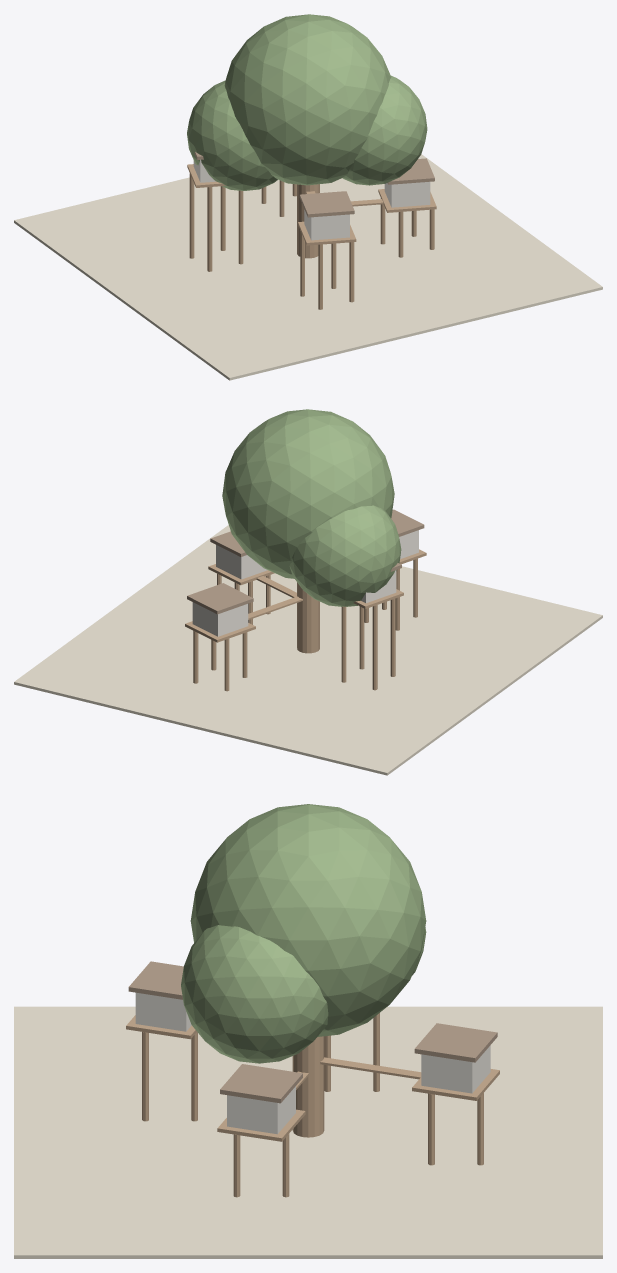
File: tree-house.glb
The picture shows the model from 3 angles, top to bottom: view 1: azimuth 30°, elevation 25°; view 2: azimuth 150°, elevation 25°; view 3: azimuth 270°, elevation 25°; orthographic projection. The views are drawn at different scales.
Parts seen in each view (by area): view 1: tree-house-0, tree-house-2, tree-house-4, tree-house-3, tree-house-19, tree-house-10, tree-house-18, tree-house-1, tree-house-11, tree-house-22; view 2: tree-house-0, tree-house-2, tree-house-4, tree-house-1, tree-house-34, tree-house-35, tree-house-10, tree-house-19, tree-house-21; view 3: tree-house-0, tree-house-2, tree-house-3, tree-house-1, tree-house-35, tree-house-11, tree-house-34, tree-house-10, tree-house-18, tree-house-19, tree-house-9, tree-house-33 (+3 smaller).
Part boxes in pixels (x1,y1,x2,y2): tree-house-0: (14,154,602,380); tree-house-2: (224,14,391,185); tree-house-4: (187,80,277,190); tree-house-3: (342,75,427,185); tree-house-19: (299,191,354,217); tree-house-10: (384,181,430,207); tree-house-18: (304,209,349,240); tree-house-1: (297,184,319,258); tree-house-11: (387,158,434,184); tree-house-22: (207,187,212,271); tree-house-0: (14,525,602,775); tree-house-2: (222,409,394,578); tree-house-4: (289,505,401,606); tree-house-1: (297,582,319,653); tree-house-34: (192,602,248,636); tree-house-35: (187,583,253,614); tree-house-10: (216,545,267,579); tree-house-19: (391,509,424,536); tree-house-21: (372,605,377,690); tree-house-0: (14,1006,602,1258); tree-house-2: (190,804,426,1036); tree-house-3: (181,925,328,1063); tree-house-1: (292,1036,324,1137); tree-house-35: (414,1023,497,1062); tree-house-11: (220,1064,302,1103); tree-house-34: (421,1045,490,1093); tree-house-10: (227,1086,295,1134); tree-house-18: (135,992,191,1031); tree-house-19: (128,961,183,999); tree-house-9: (217,1109,305,1141); tree-house-33: (412,1069,499,1100).
Size of the model in its own units: 60 by 36 by 60.
